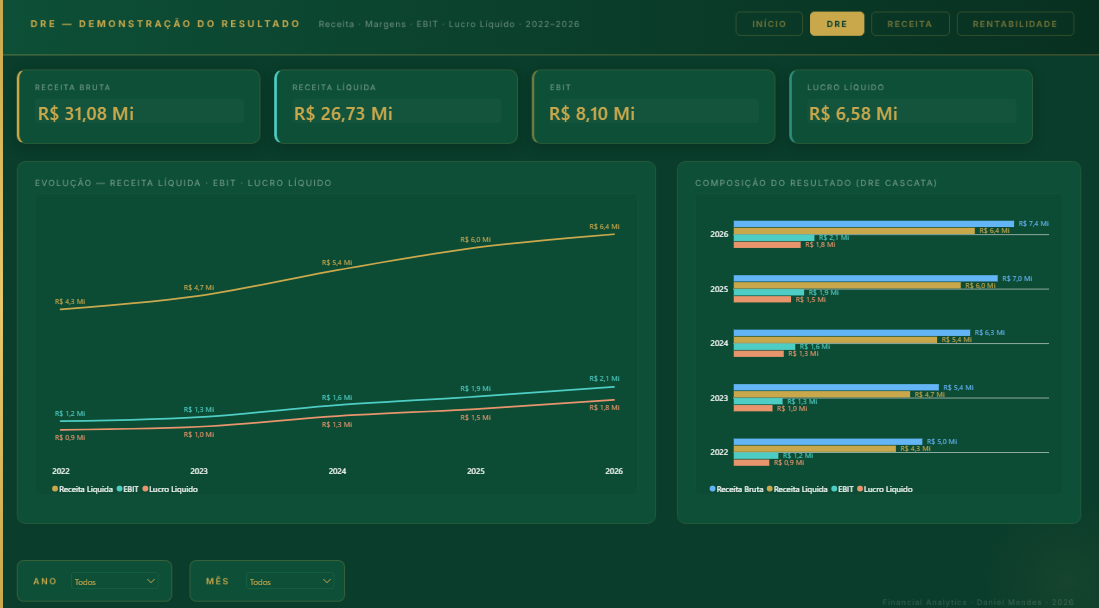

Layout of this report page (visuals, bound fields, positions):
{"tool":"powerbi","page":{"name":"DRE","canvas":[1920,1080],"ordinal":1},"visuals":[{"type":"cardVisual","fields":{"Data":["_Medidas.Receita Bruta"]},"box":[56.1,146.6,354.7,86.9],"z":0},{"type":"cardVisual","fields":{"Data":["_Medidas.Receita Liquida"]},"box":[501.3,146.6,354.7,86.9],"z":1000},{"type":"cardVisual","fields":{"Data":["_Medidas.EBIT"]},"box":[944.6,146.6,354.7,86.9],"z":2000},{"type":"cardVisual","fields":{"Data":["_Medidas.Lucro Liquido"]},"box":[1395.2,146.6,354.7,86.9],"z":3000},{"type":"lineChart","fields":{"Category":["vw_DRE.data_ref.Variação.Hierarquia de datas.Ano","vw_DRE.data_ref.Variação.Hierarquia de datas.Trimestre","vw_DRE.data_ref.Variação.Hierarquia de datas.Mês","vw_DRE.data_ref.Variação.Hierarquia de datas.Dia"],"Y":["_Medidas.Receita Liquida","_Medidas.EBIT","_Medidas.Lucro Liquido"]},"box":[79.6,351.1,1024.3,533.8],"z":4000},{"type":"clusteredBarChart","fields":{"Category":["vw_DRE.ano"],"Y":["_Medidas.Receita Bruta","_Medidas.Receita Liquida","_Medidas.EBIT","_Medidas.Lucro Liquido"]},"box":[1221.5,351.1,622.5,533.8],"z":5000},{"type":"slicer","fields":{"Values":["vw_DRE.ano"]},"box":[126.7,995.3,161.1,68.8],"z":6000},{"type":"slicer","fields":{"Values":["vw_DRE.mes"]},"box":[428.9,995.3,162.9,50.7],"z":7000},{"type":"actionButton","box":[1286.7,29,108.6,39.8],"z":8000},{"type":"actionButton","box":[1532.8,29,108.6,39.8],"z":9000},{"type":"actionButton","box":[1679.4,29,181,39.8],"z":10000}]}

Visuals, with their boxes in screenshot pixels (x1, y1, x2, y2), scaled from the page's 1920x1080 canvas onto the 1099x608 screenshot:
cardVisual - _Medidas.Receita Bruta: bbox=(32, 83, 235, 131)
cardVisual - _Medidas.Receita Liquida: bbox=(287, 83, 490, 131)
cardVisual - _Medidas.EBIT: bbox=(541, 83, 744, 131)
cardVisual - _Medidas.Lucro Liquido: bbox=(799, 83, 1002, 131)
lineChart - vw_DRE.data_ref.Variação.Hierarquia de datas.Ano x vw_DRE.data_ref.Variação.Hierarquia de datas.Trimestre: bbox=(46, 198, 632, 498)
clusteredBarChart - vw_DRE.ano x _Medidas.Receita Bruta: bbox=(699, 198, 1055, 498)
slicer - vw_DRE.ano: bbox=(73, 560, 165, 599)
slicer - vw_DRE.mes: bbox=(246, 560, 339, 589)
actionButton: bbox=(737, 16, 799, 39)
actionButton: bbox=(877, 16, 940, 39)
actionButton: bbox=(961, 16, 1065, 39)
